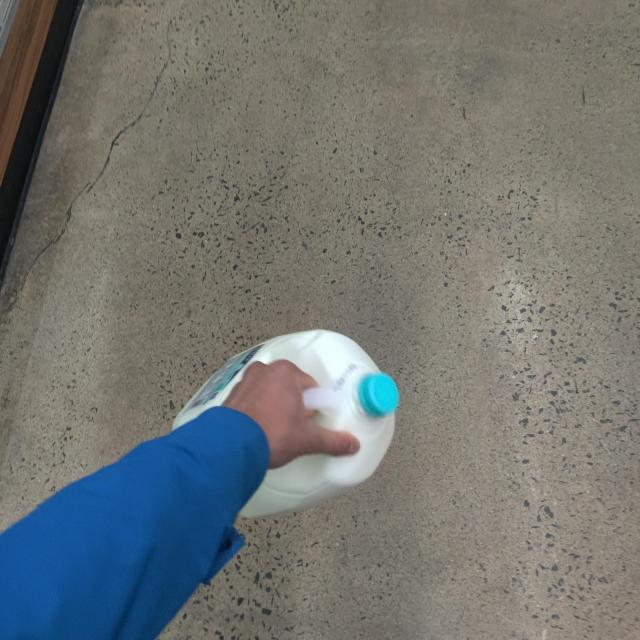Milk: (144, 312, 412, 549)
